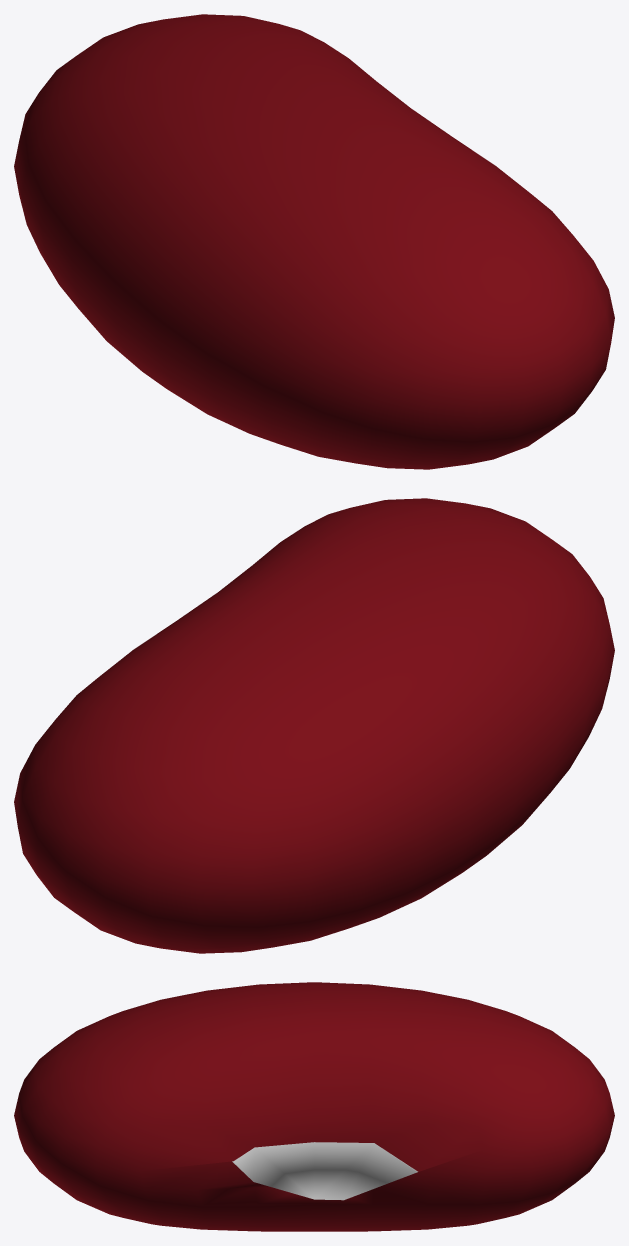
File: bean_kidney.fbx
The picture shows the model from 3 angles, top to bottom: view 1: azimuth 30°, elevation 25°; view 2: azimuth 150°, elevation 25°; view 3: azimuth 270°, elevation 25°; orthographic projection. The views are drawn at different scales.
Visible parts, largest first — view 1: red kidney bean; view 2: red kidney bean; view 3: red kidney bean.
Part boxes in pixels (x1,y1,x2,y2): red kidney bean: (14, 14, 614, 469); red kidney bean: (14, 498, 614, 953); red kidney bean: (14, 982, 614, 1231).
Size of the model in its own units: 0.05 by 0.04 by 0.1.
